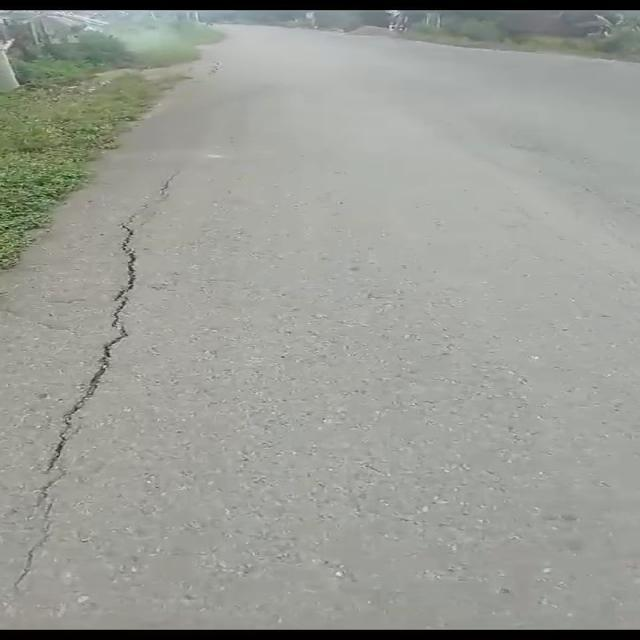Memanjang: (0, 162, 174, 599)
